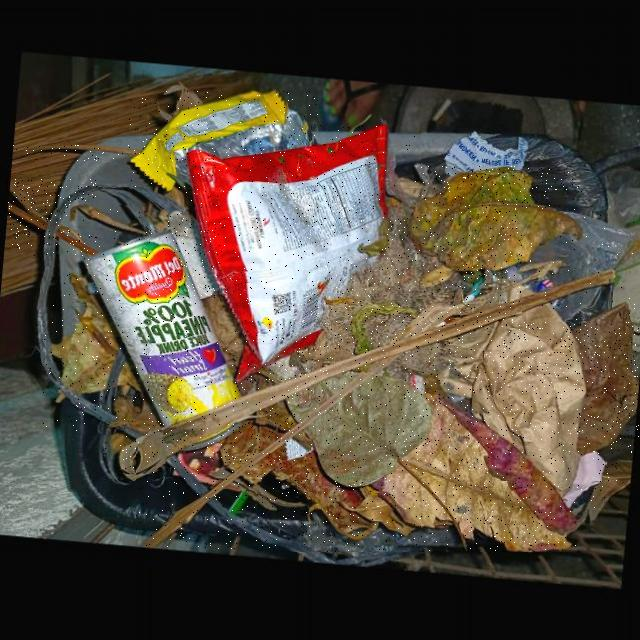biowaste: (118, 270, 617, 480), (137, 284, 500, 549), (254, 207, 461, 383), (285, 372, 467, 551), (371, 394, 577, 551), (43, 274, 165, 434), (220, 421, 380, 540), (406, 166, 582, 273), (571, 303, 639, 455), (8, 178, 97, 256), (238, 375, 311, 452), (209, 468, 301, 511), (201, 292, 245, 380), (339, 497, 414, 535), (386, 126, 421, 207), (70, 205, 146, 232), (12, 145, 137, 160)
metal: (83, 230, 248, 452)
paper: (435, 303, 586, 498), (169, 213, 221, 299), (563, 453, 606, 509)
plastic: (522, 210, 634, 321)
wrapper: (184, 125, 388, 382), (129, 91, 318, 191)
